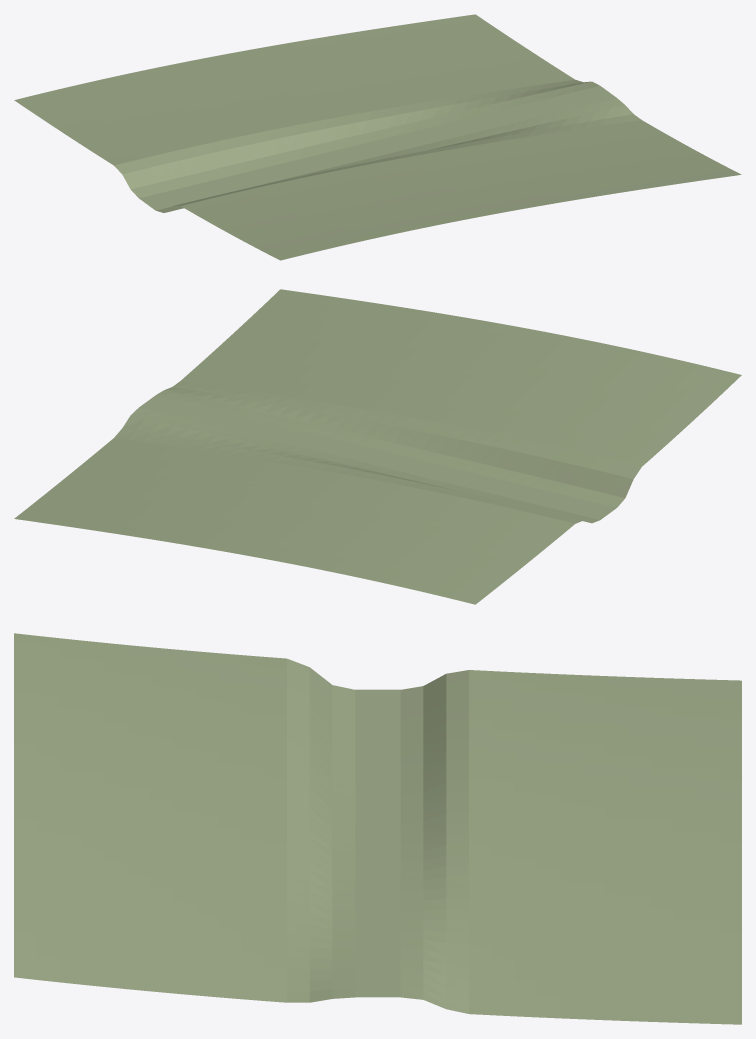
File: valley-11-12.glb
3 views of the same model, one above another, from view 1: azimuth 30°, elevation 25°; view 2: azimuth 150°, elevation 25°; view 3: azimuth 270°, elevation 25° (orthographic). The views are drawn at different scales.
Parts seen in each view (by area): view 1: valley-11-12; view 2: valley-11-12; view 3: valley-11-12.
Part boxes in pixels (<box>): valley-11-12: <box>14,14,741,260</box>; valley-11-12: <box>14,289,741,604</box>; valley-11-12: <box>14,633,741,1024</box>.
Size of the model in its own units: 256 by 32.56 by 256.
